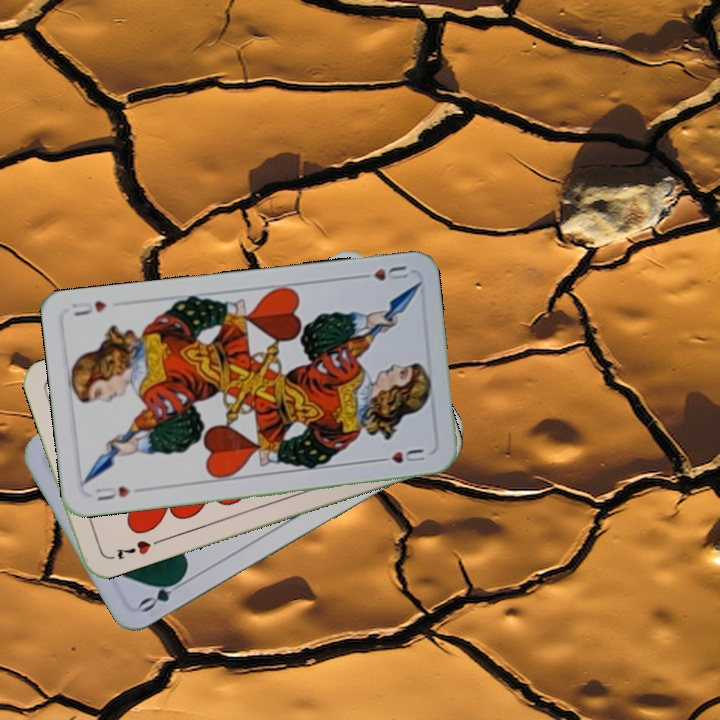GO: (135, 571, 190, 615)
H7: (112, 536, 154, 563)
HU: (353, 262, 411, 284), (91, 482, 133, 503)
